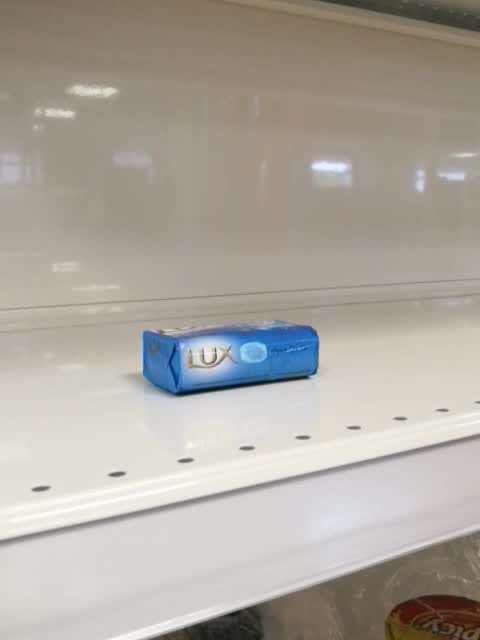soap: (143, 321, 320, 397)
